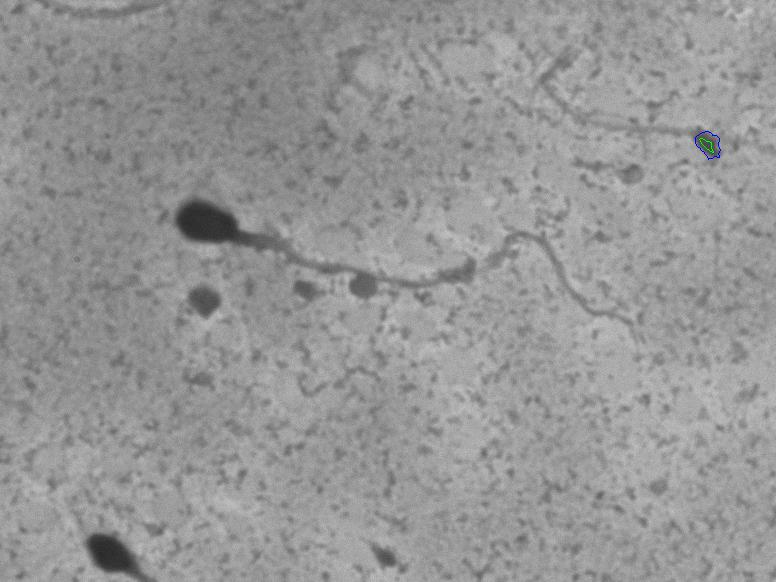Abnormal: (135, 152, 651, 354)
